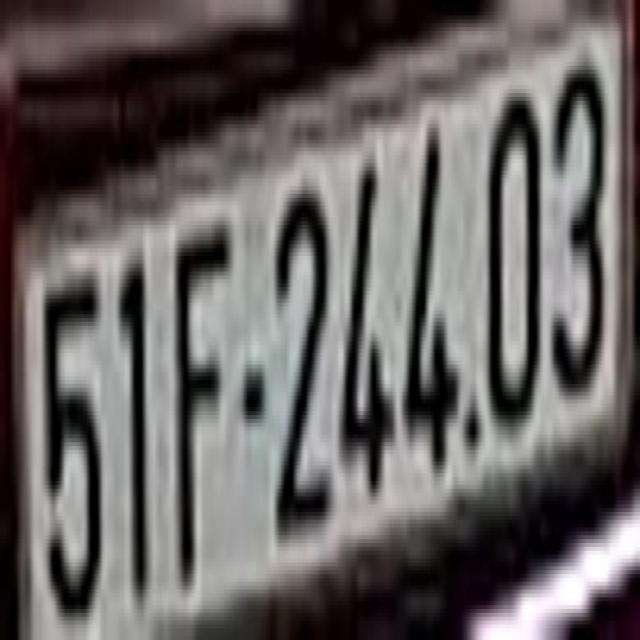0: (479, 66, 547, 469)
1: (118, 244, 151, 609)
2: (270, 182, 331, 543)
3: (550, 58, 610, 423)
4: (406, 109, 460, 488), (342, 144, 392, 504)
5: (44, 260, 104, 632)
F: (169, 218, 235, 562)
